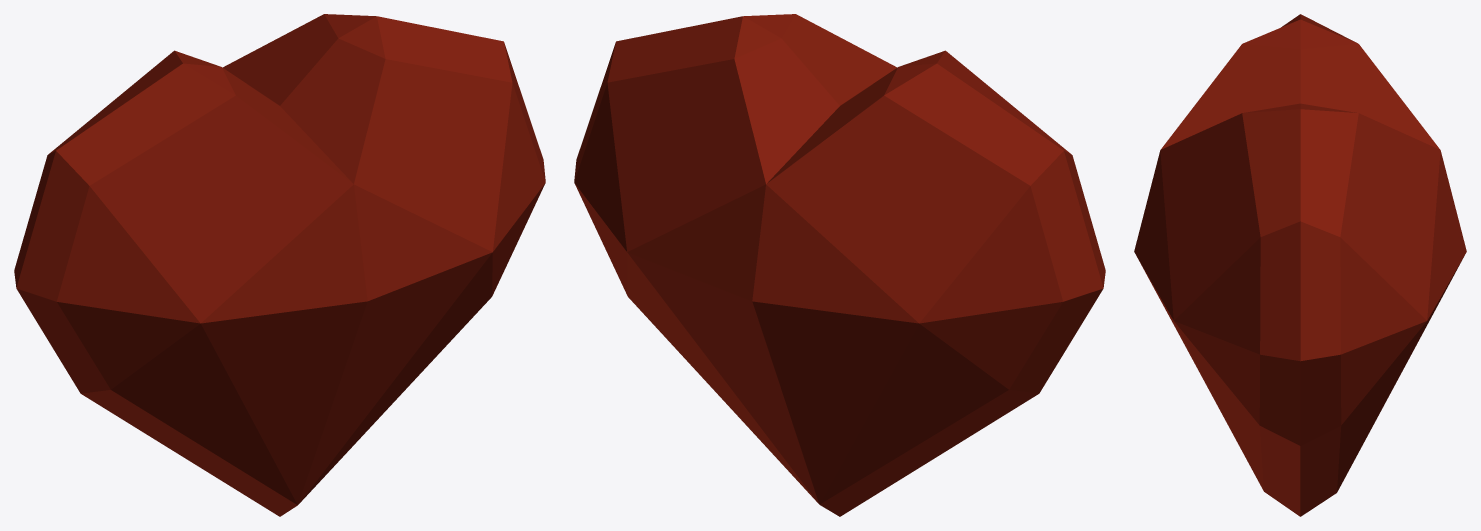
File: Coracao.fbx
3 renders of one model, left to right at view 1: azimuth 30°, elevation 25°; view 2: azimuth 150°, elevation 25°; view 3: azimuth 270°, elevation 25°, orthographic. The views are drawn at different scales.
Parts seen in each view (by area): view 1: Cube; view 2: Cube; view 3: Cube.
Boxes of the visible parts, x1,y1,x2,y2 form: Cube: (14,14,545,516); Cube: (574,14,1105,516); Cube: (1134,14,1466,516).
Size of the model in its own units: 303 by 262 by 174.
